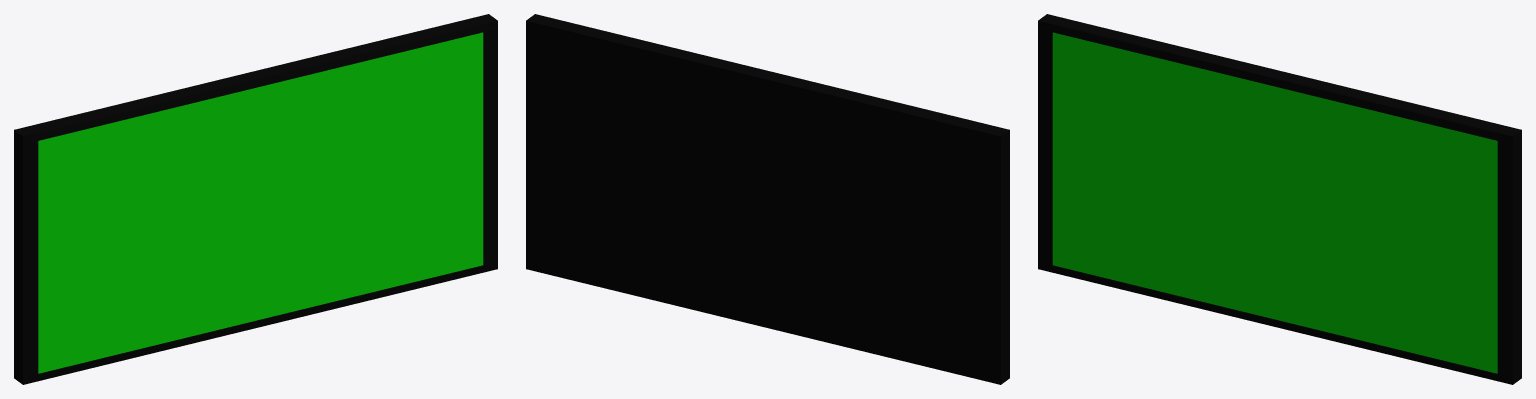
3 views of the same model, side by side, from view 1: azimuth 30°, elevation 25°; view 2: azimuth 150°, elevation 25°; view 3: azimuth 330°, elevation 25° (orthographic).
Parts seen in each view (by area): view 1: TV; view 2: TV; view 3: TV.
Boxes of the visible parts, left/top/right/bottom form: TV: left=14, top=14, right=497, bottom=384; TV: left=526, top=14, right=1009, bottom=384; TV: left=1038, top=14, right=1521, bottom=384.
Bounding box in the file's own units: 1.2 × 0.6 × 0.0415.
